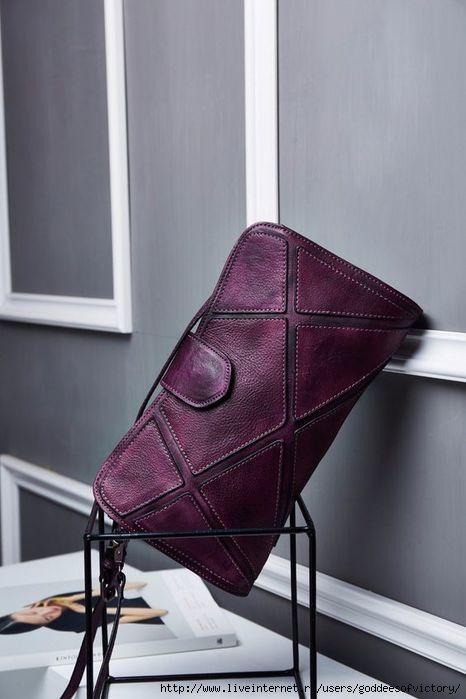cuero: (92, 221, 427, 599)
